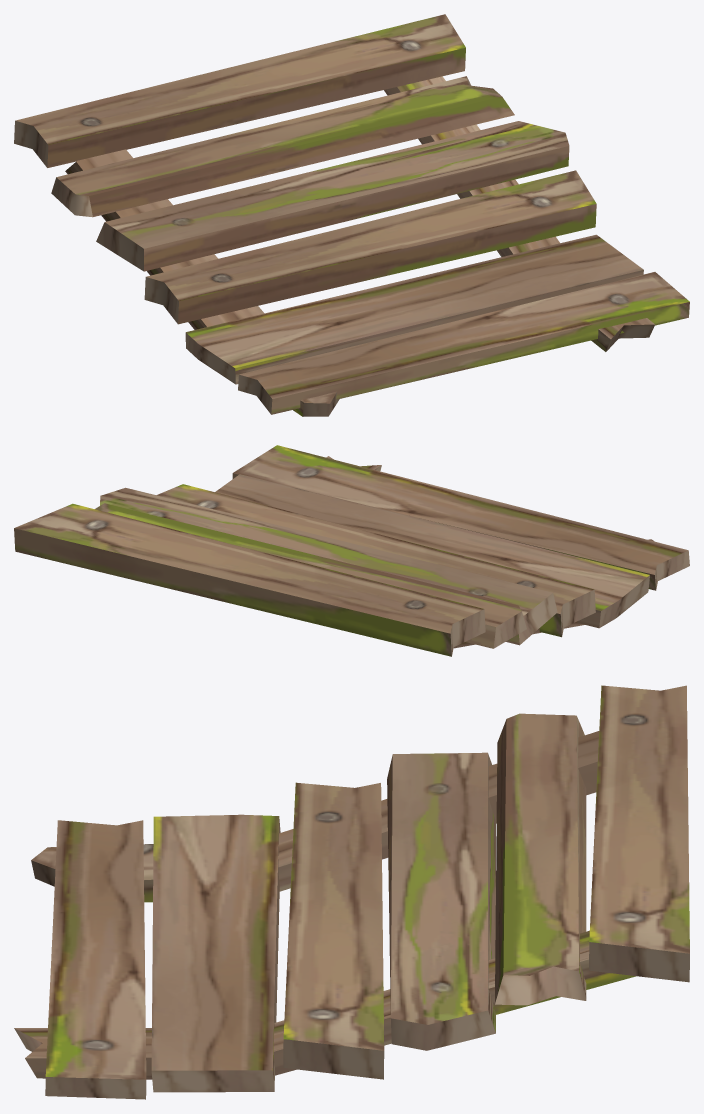
File: Map_04_bridge02.FBX
3 views of the same model, one above another, from view 1: azimuth 30°, elevation 25°; view 2: azimuth 150°, elevation 25°; view 3: azimuth 270°, elevation 25° (orthographic). The views are drawn at different scales.
Visible parts, largest first — view 1: Map_04_bridge02; view 2: Map_04_bridge02; view 3: Map_04_bridge02.
Boxes of the visible parts, bbox=[...] form: Map_04_bridge02: bbox=[14, 14, 689, 416]; Map_04_bridge02: bbox=[14, 445, 689, 656]; Map_04_bridge02: bbox=[14, 685, 689, 1099].
Size of the model in its own units: 64.7 by 16.7 by 65.03.
1 material, 1 textured.
